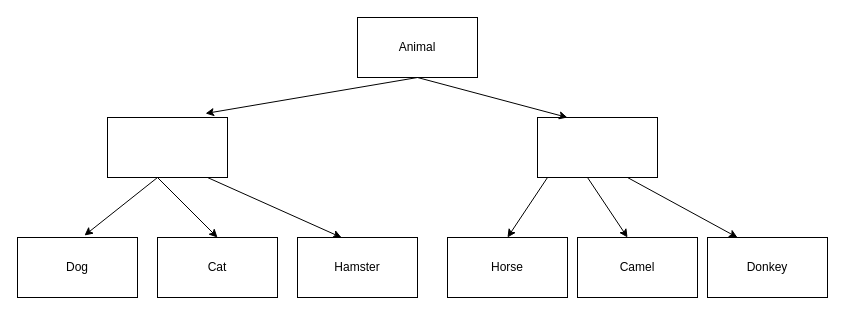
This 845x315 diagram has some shape labels left out. The shapes that lost their labels are listed below. From the top down, each one's box as (x1, y1, x2, y2) in pixels, then its label:
(106, 116, 228, 178): Pet
(536, 116, 658, 178): PackAnimal
